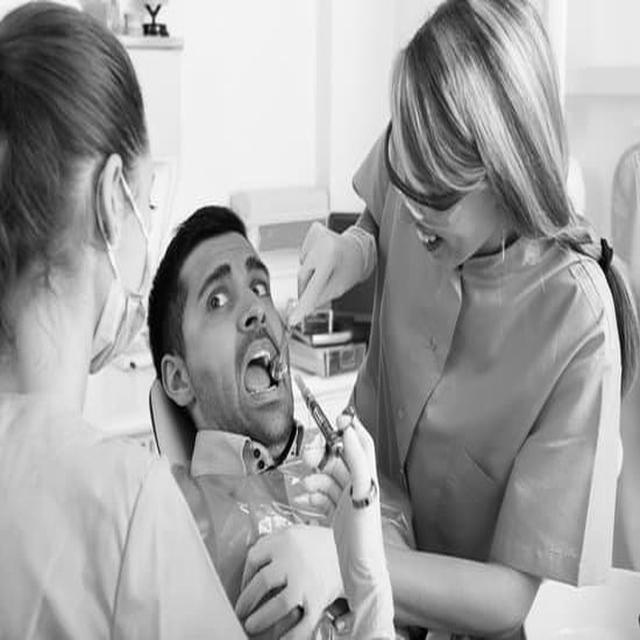Fear: (180, 229, 294, 442)
